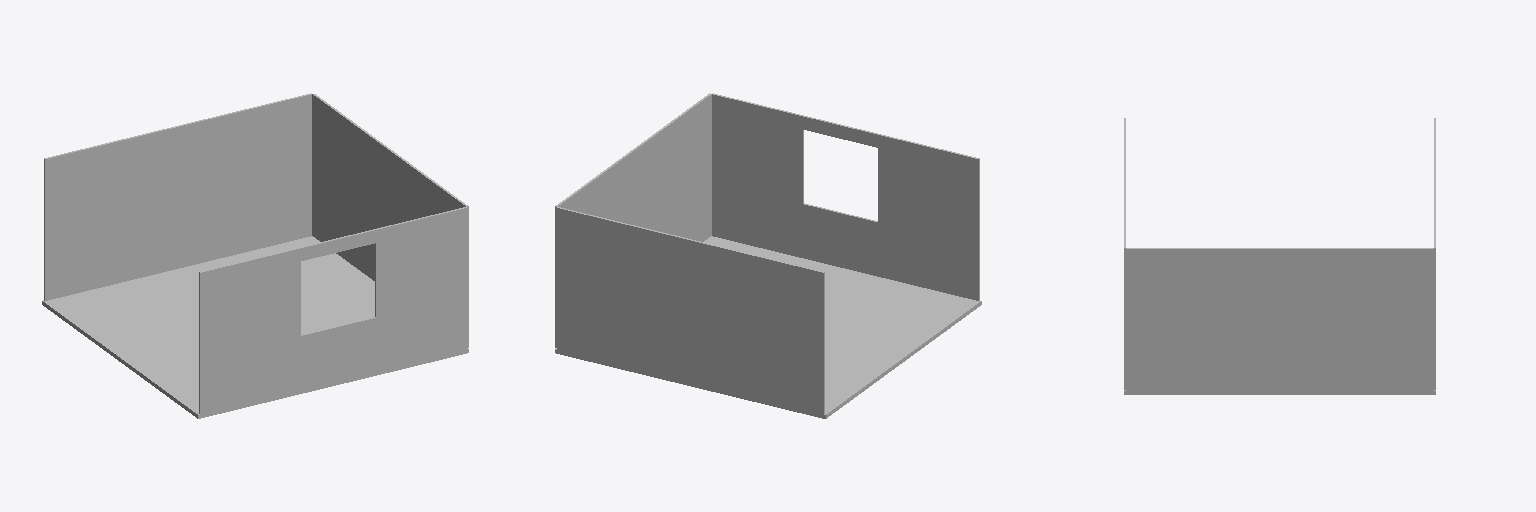
File: Room.obj
3 renders of one model, left to right at view 1: azimuth 30°, elevation 25°; view 2: azimuth 150°, elevation 25°; view 3: azimuth 270°, elevation 25°, orthographic.
Visible parts, largest first — view 1: Room; view 2: Room; view 3: Room.
Part boxes in pixels (left/top/right/bottom): Room: left=42, top=93, right=468, bottom=418; Room: left=555, top=93, right=981, bottom=418; Room: left=1124, top=118, right=1435, bottom=394.
Size of the model in its own units: 142 by 73.13 by 142.